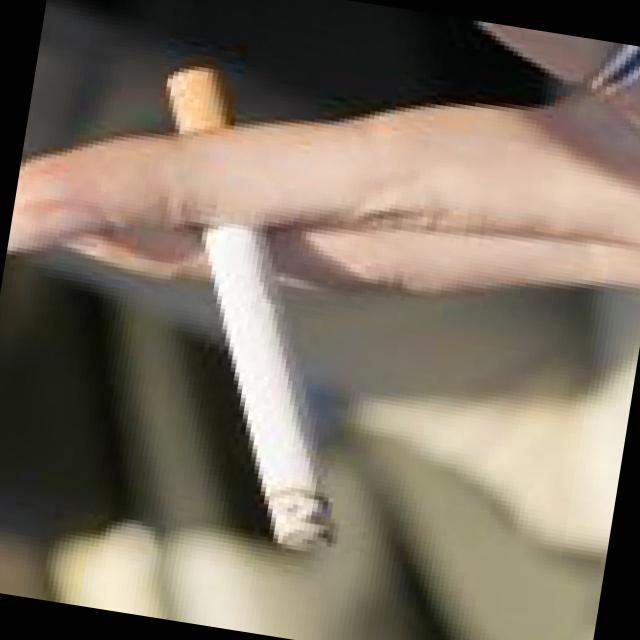cigarette: (144, 220, 387, 572)
